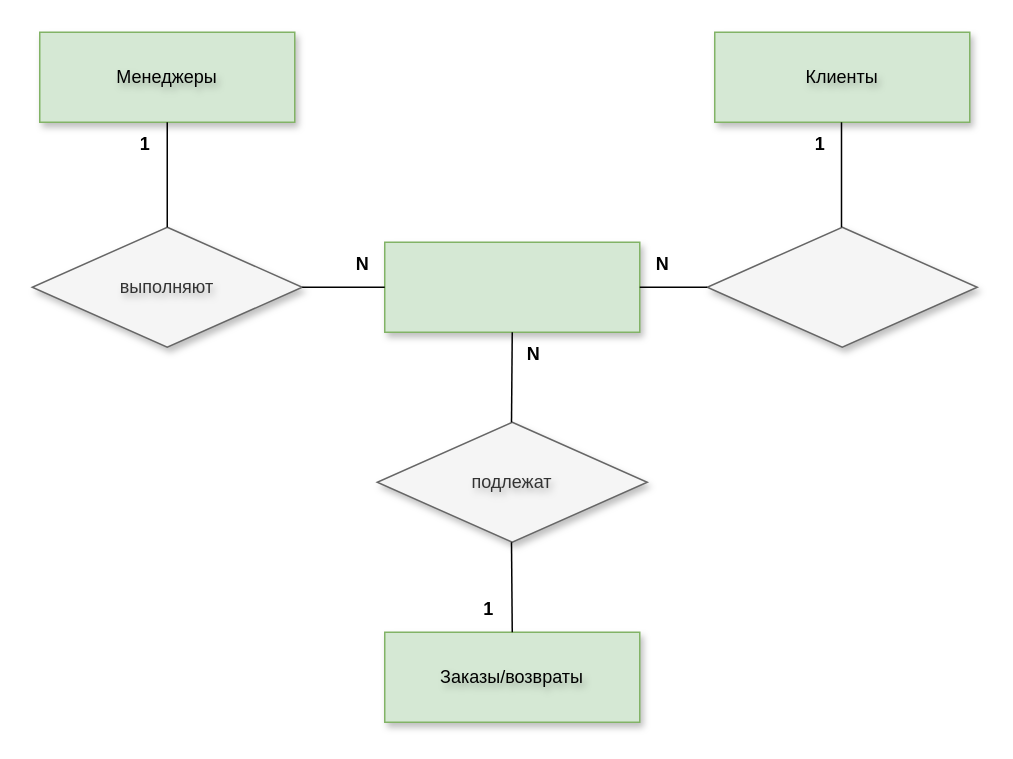
The diagram is 1013 pixels wide and 759 high, and some of its shapes have lost their labels. Here are the shapes that lost their labels. From the top down, the centre of each, then its label:
At (513,289): "Заказ товара".
At (843,289): "совершают возврат".
